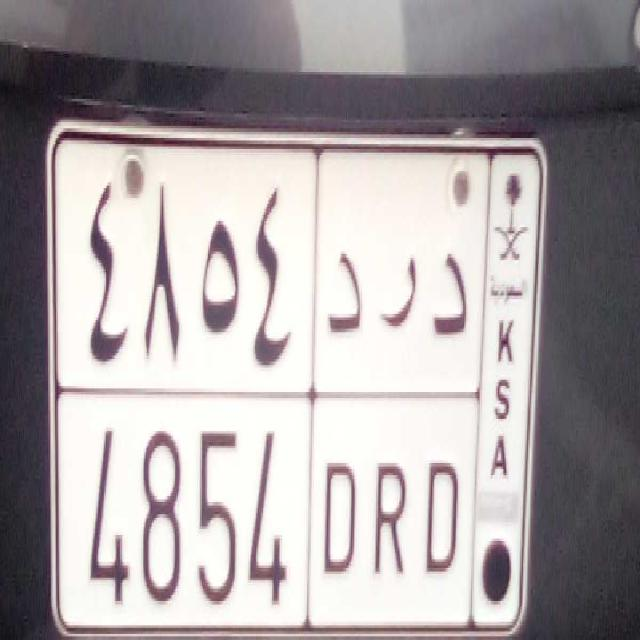license_plate: (61, 387, 470, 633)
